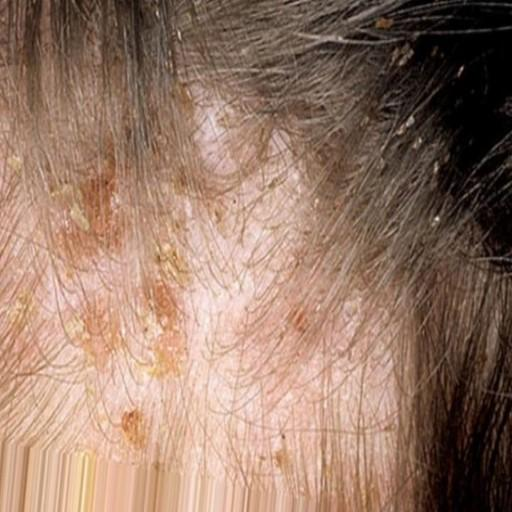Head_Lice: (420, 152, 457, 178), (366, 10, 409, 32), (385, 43, 416, 68), (395, 113, 420, 140), (423, 206, 448, 232), (453, 68, 467, 77)
